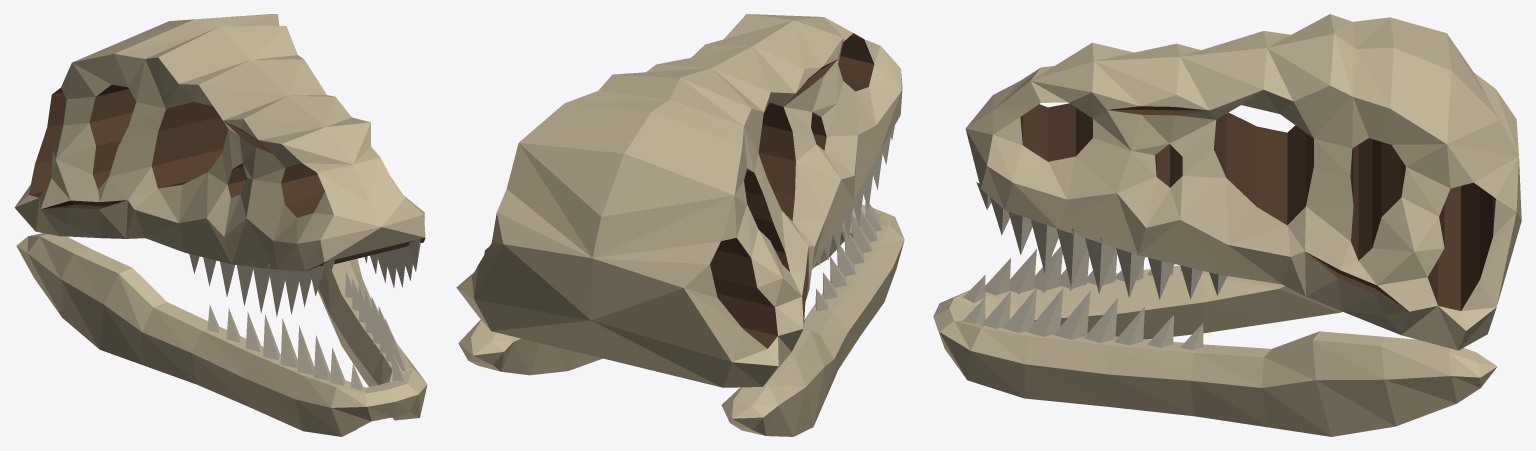
File: dinosaur-skull-4c3a3c.glb
The picture shows the model from 3 angles, left to right: view 1: azimuth 30°, elevation 25°; view 2: azimuth 150°, elevation 25°; view 3: azimuth 270°, elevation 25°; orthographic projection. The views are drawn at different scales.
Visible parts, largest first — view 1: skull; view 2: skull; view 3: skull.
Part boxes in pixels (box(x1,y1,x2,y2)): skull: box(14, 14, 427, 436); skull: box(456, 14, 904, 436); skull: box(933, 14, 1521, 436).
Bounding box in the file's own units: 1 × 0.9428 × 1.5.
